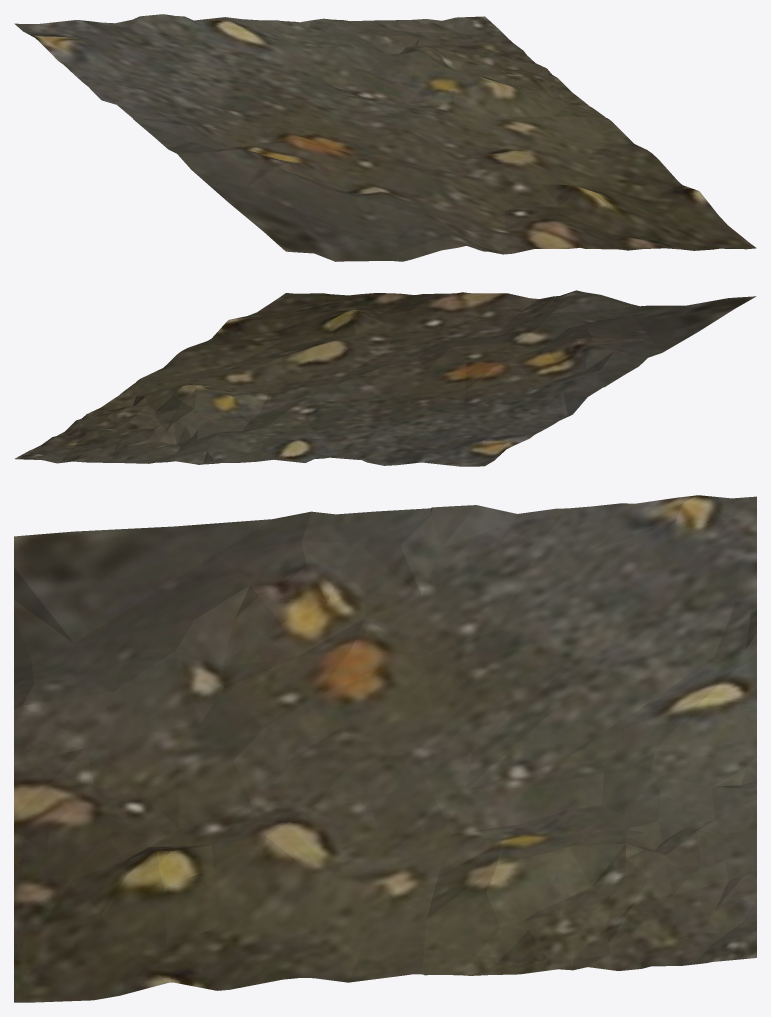
3 renders of one model, top to bottom at view 1: azimuth 30°, elevation 25°; view 2: azimuth 150°, elevation 25°; view 3: azimuth 270°, elevation 25°, orthographic. The views are drawn at different scales.
Size of the model in its own units: 0.8373 by 0.2408 by 0.8374.
3 materials, 3 textured.
